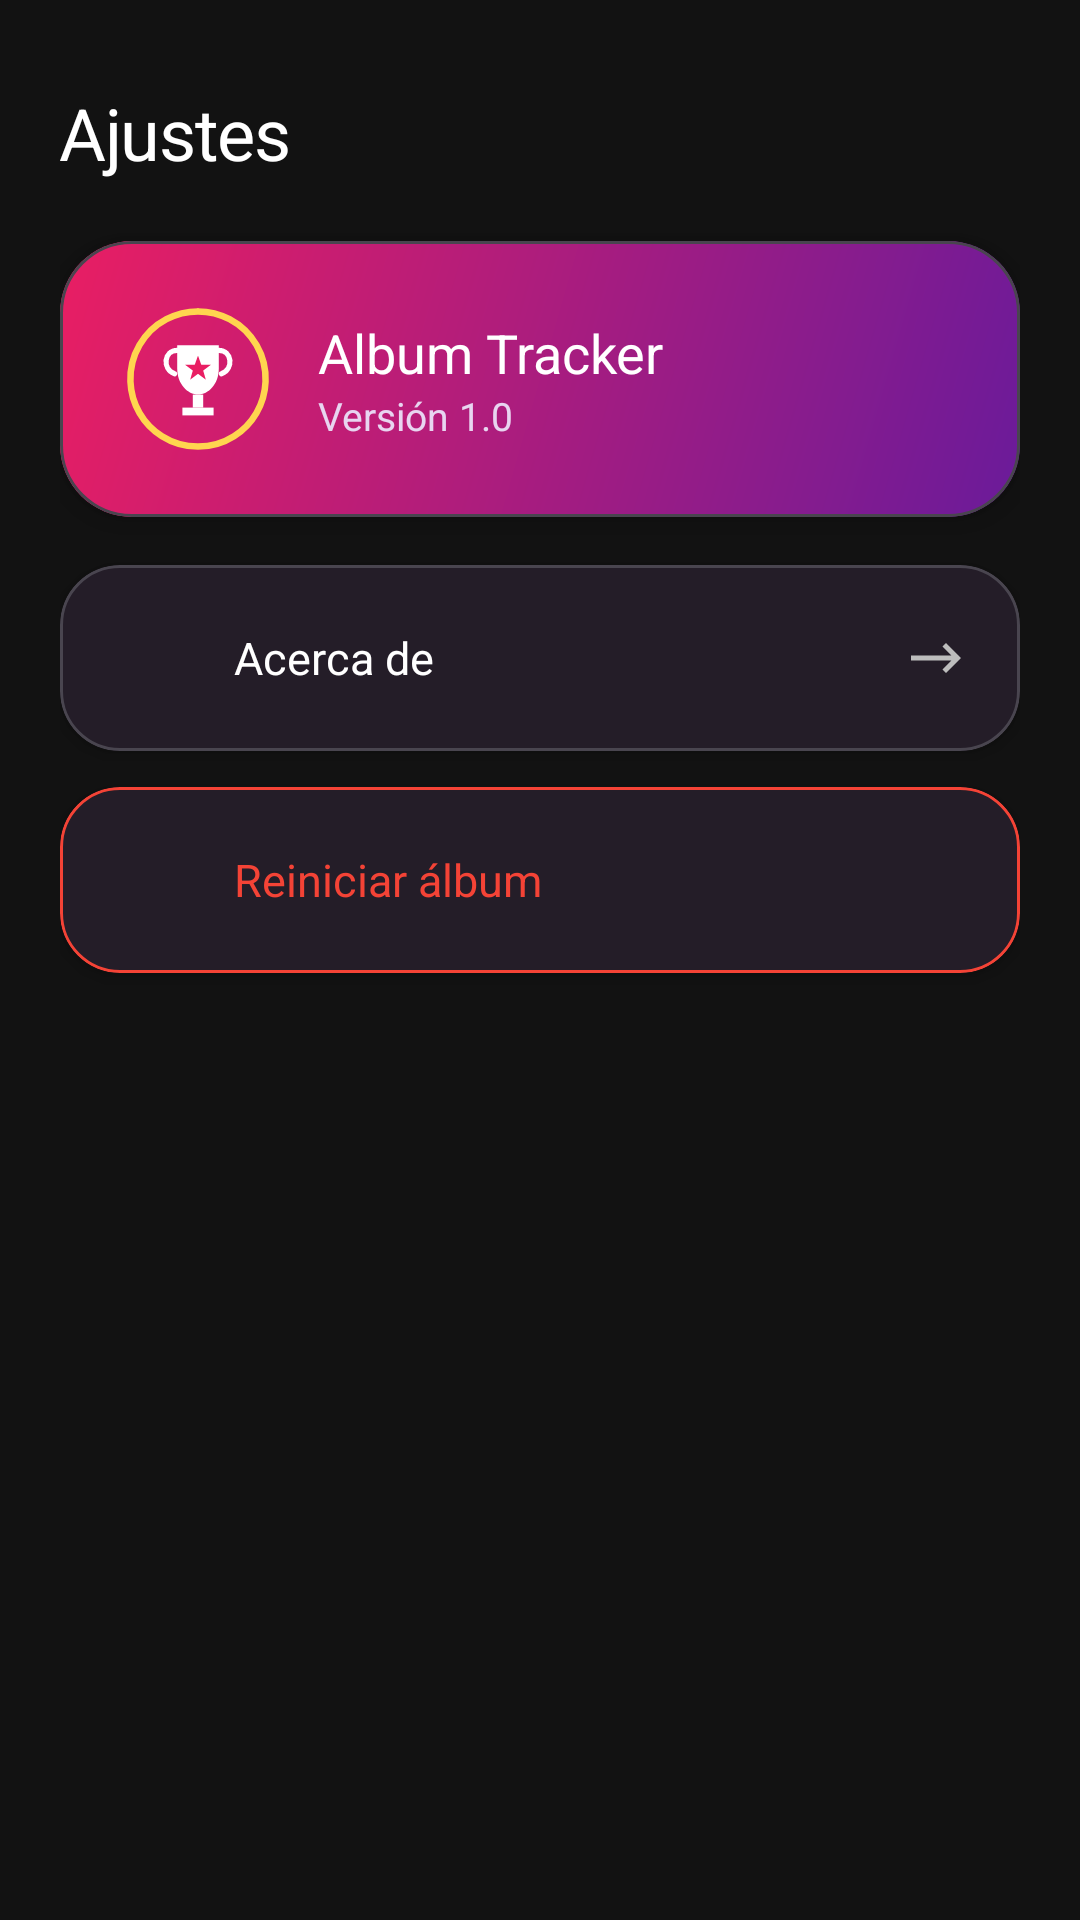

Point at icon controls on the screen. Image size 1080*1920, points as (x,y).
arrow forward: (936,658)
